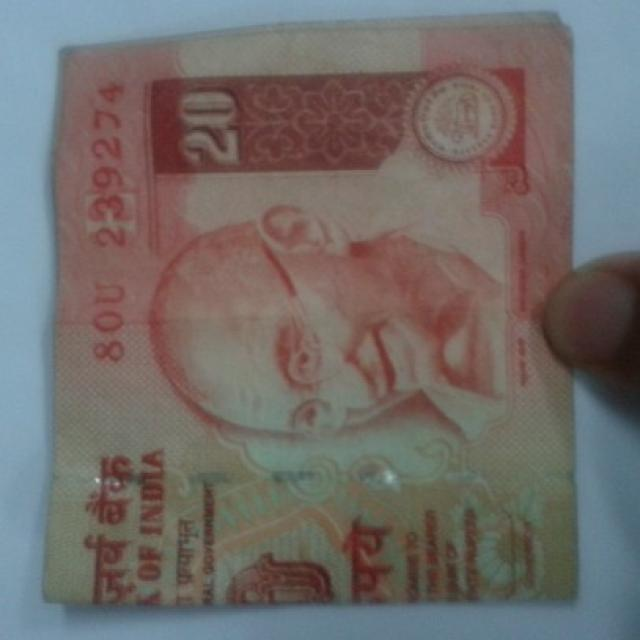20rs: (41, 16, 578, 606)
